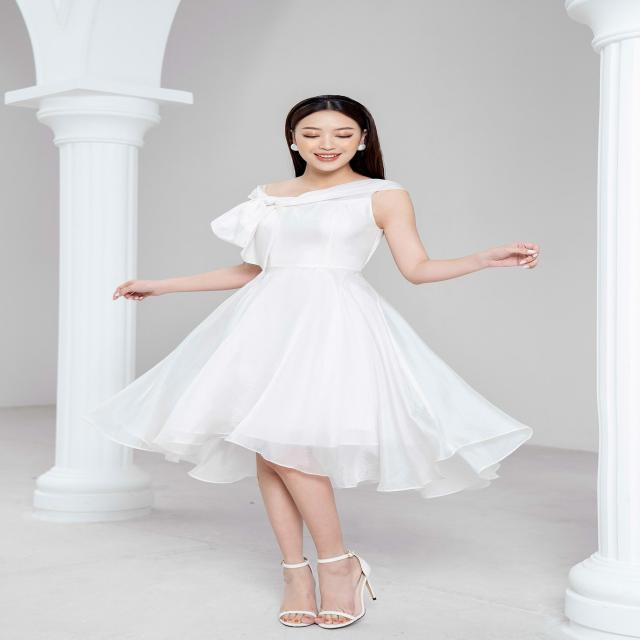clothes: (51, 175, 524, 498)
